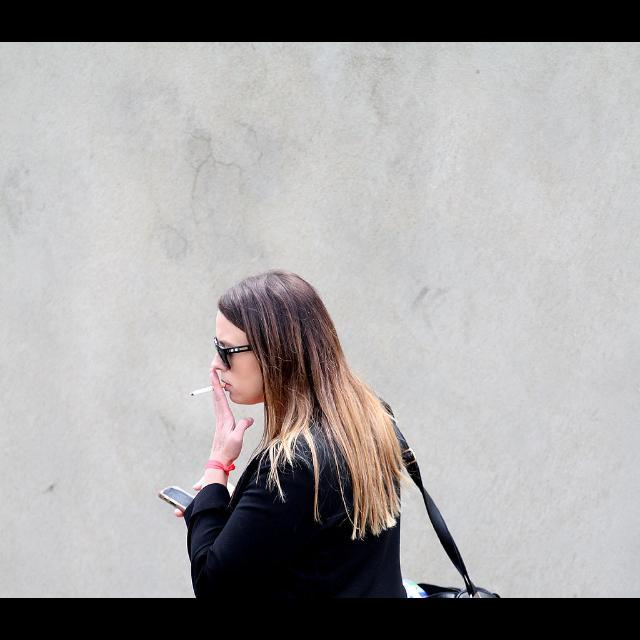rokok: (187, 379, 220, 401)
